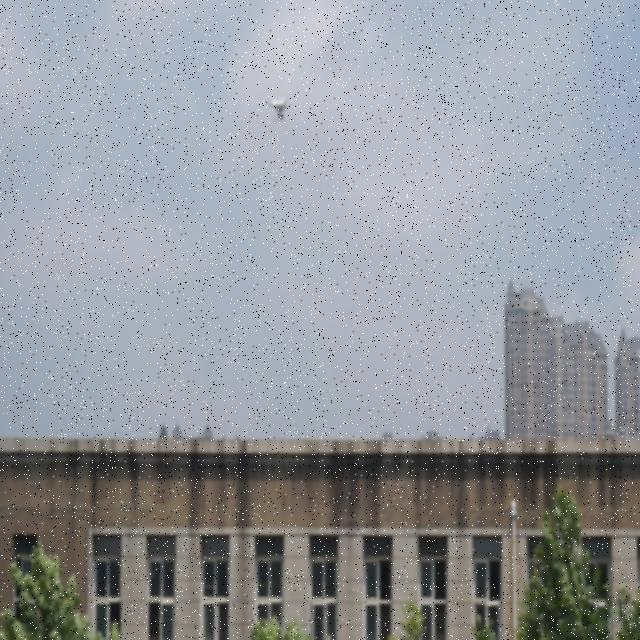UAV: (261, 98, 296, 122)
